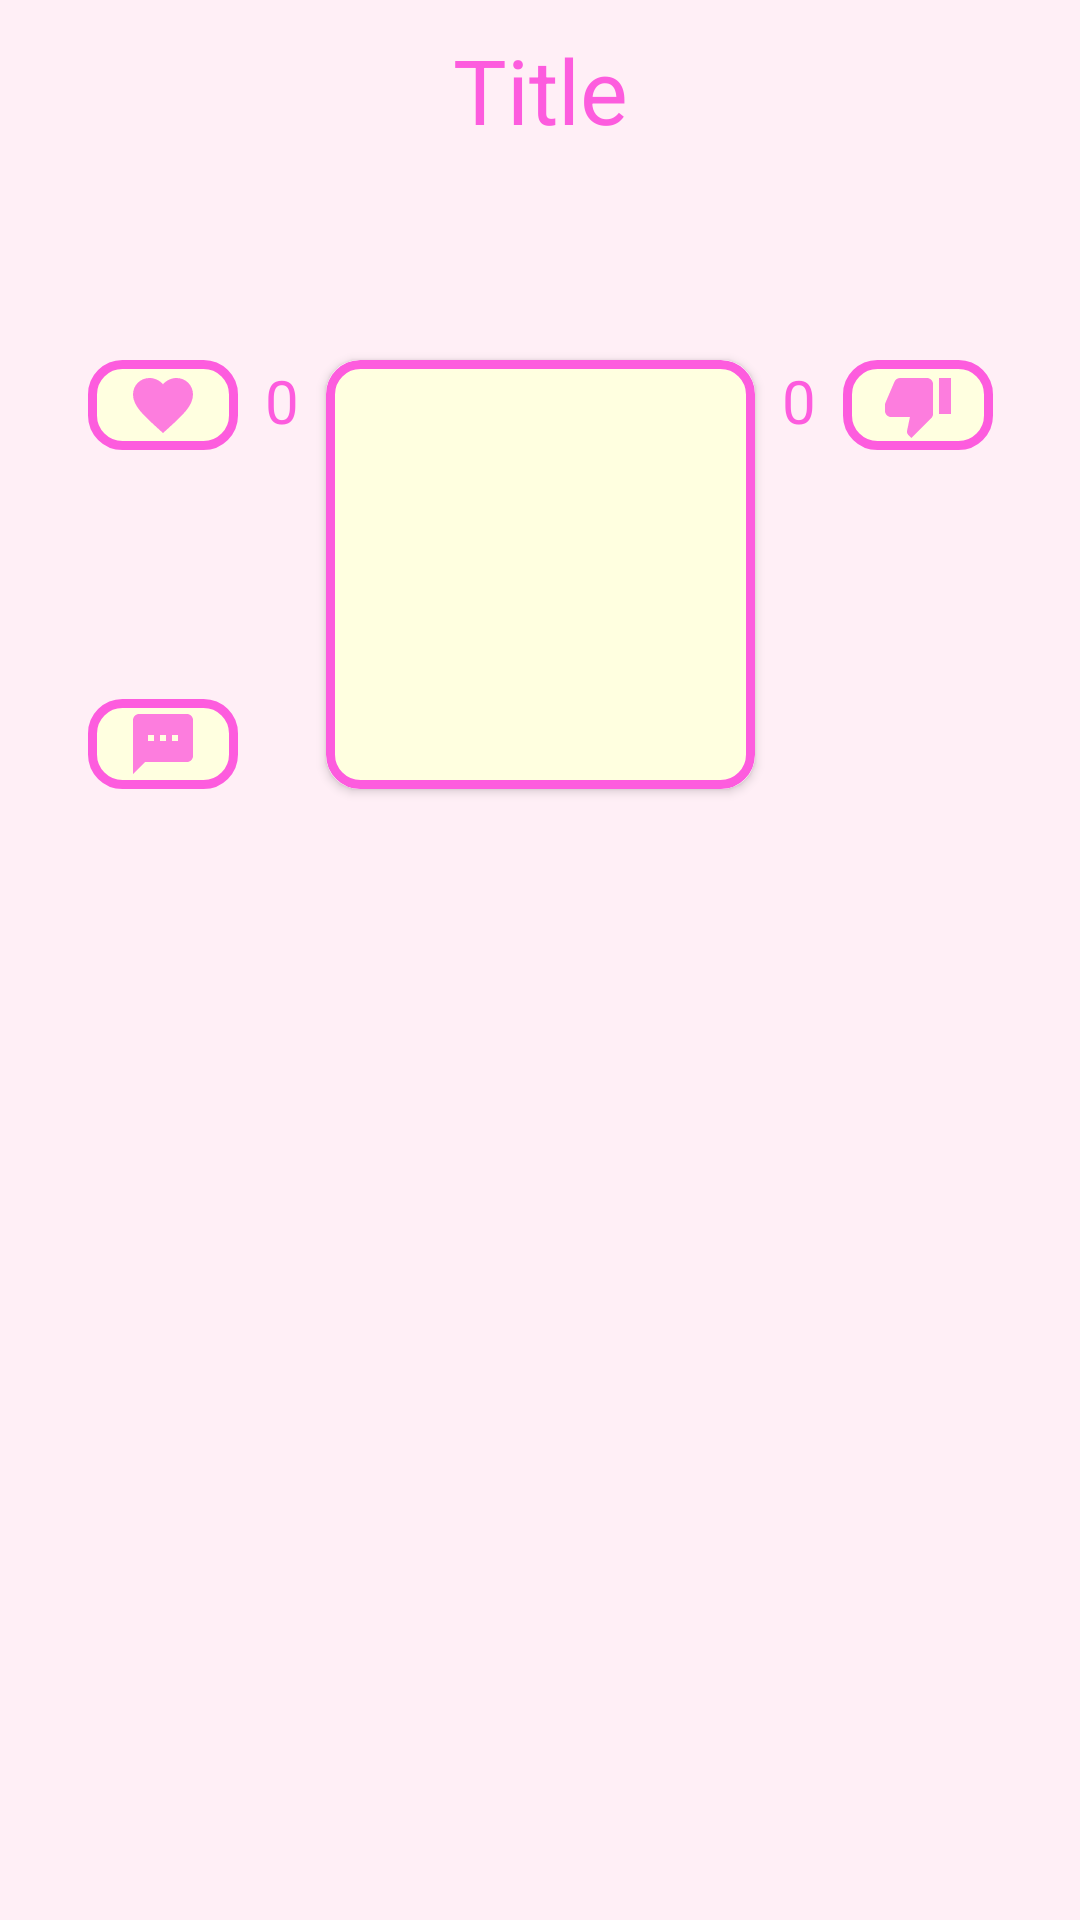

Icon click points for this 1080x1920 phone screenshot, format [x,y]:
comment: [163,744]
dislike: [918,405]
heart: [163,405]
